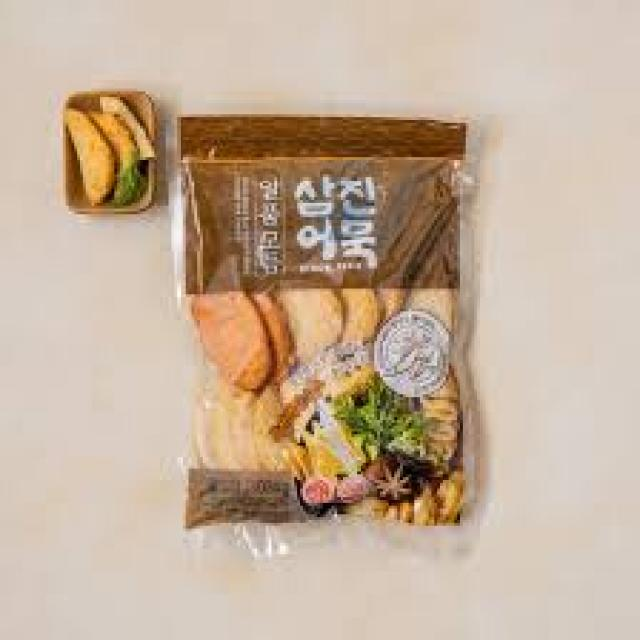fish_cake: (174, 109, 472, 537)
